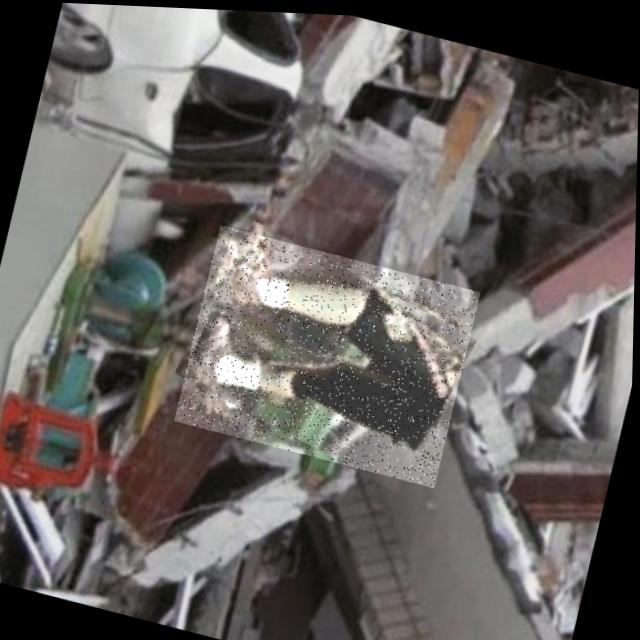Person in Rubble: (172, 221, 481, 484)
